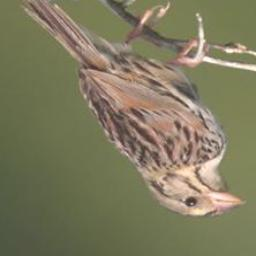Sparrow: (24, 0, 247, 221)
